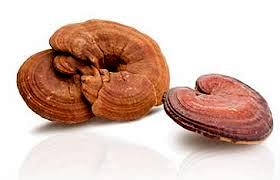Ganoderma - Fruit Body: (14, 16, 162, 125), (170, 73, 280, 147)
